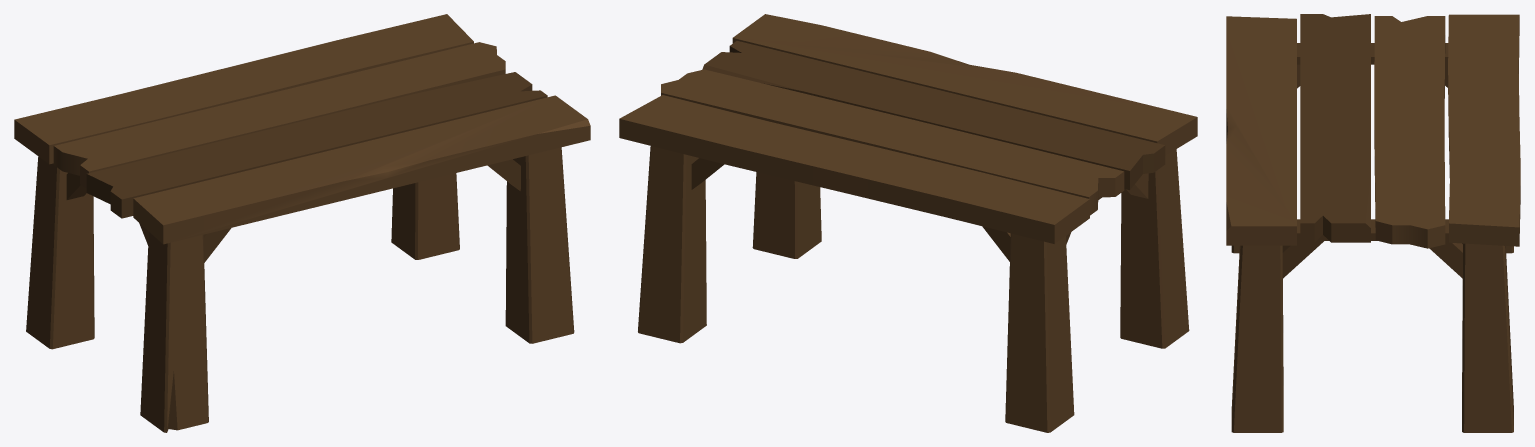
Rendered from Table_01.fbx.
3 renders of one model, left to right at view 1: azimuth 30°, elevation 25°; view 2: azimuth 150°, elevation 25°; view 3: azimuth 270°, elevation 25°, orthographic.
Visible parts, largest first — view 1: Table_01_LOD0; view 2: Table_01_LOD0; view 3: Table_01_LOD0.
Part boxes in pixels (left/top/right/bottom): Table_01_LOD0: left=14, top=14, right=590, bottom=432; Table_01_LOD0: left=619, top=14, right=1197, bottom=432; Table_01_LOD0: left=1226, top=14, right=1520, bottom=432.
Size of what is drawn, in the model's own units: 1.65 by 0.7582 by 0.9517.
